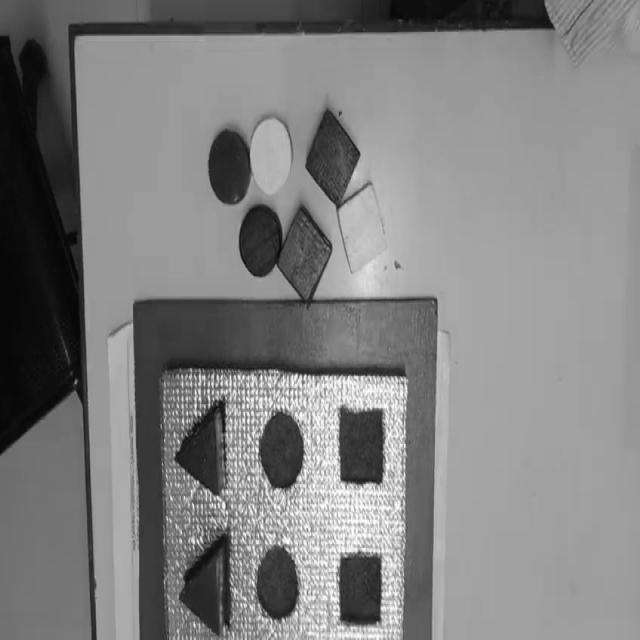bcircle: (239, 205, 281, 278)
bcube: (306, 108, 360, 206)
btriangle: (175, 403, 226, 496)
mtcircle: (260, 412, 304, 490), (256, 544, 299, 620)
mtcube: (338, 406, 386, 486), (338, 551, 383, 625)
rcircle: (207, 130, 249, 207)
rcube: (277, 204, 332, 306)
rtriangle: (180, 536, 230, 634)
wb: (157, 362, 410, 640)
ycircle: (247, 115, 290, 197)
ycube: (337, 180, 388, 274)
